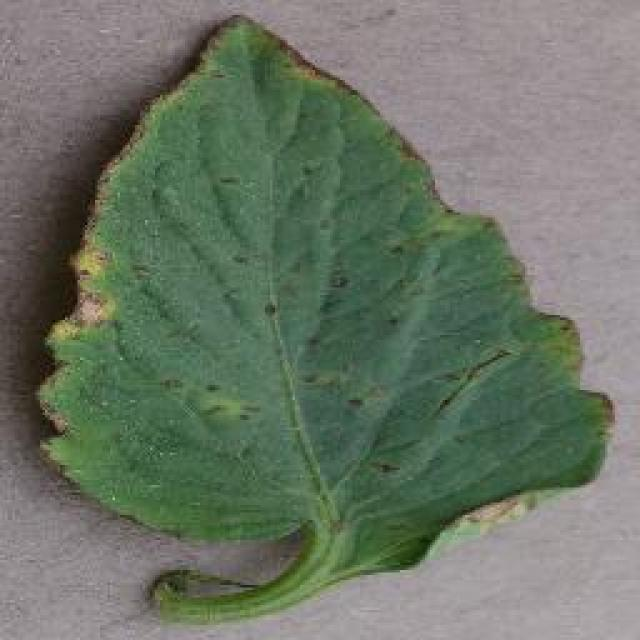Tomato___Bacterial_spot: (29, 11, 618, 632)
